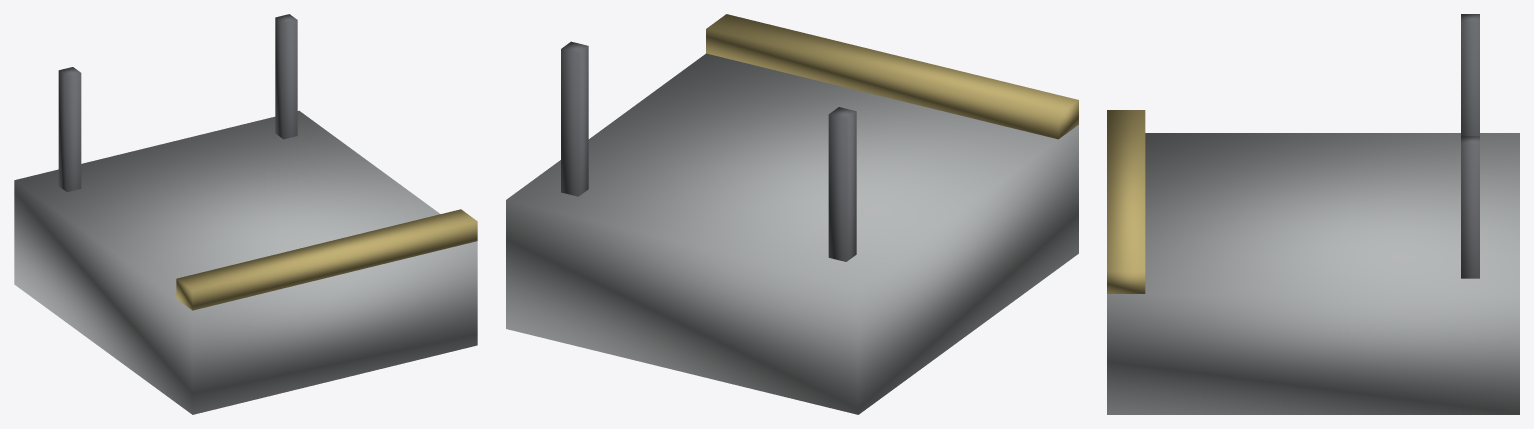
The model's file is loading_dock_02.glb.
3 renders of one model, left to right at view 1: azimuth 30°, elevation 25°; view 2: azimuth 150°, elevation 25°; view 3: azimuth 270°, elevation 25°, orthographic. The views are drawn at different scales.
Parts seen in each view (by area): view 1: world; view 2: world; view 3: world.
Boxes of the visible parts, <box> form: world: <box>14,14,477,414</box>; world: <box>506,14,1078,414</box>; world: <box>1107,14,1519,414</box>.
Size of the model in its own units: 1.8 by 1.33 by 1.95.
